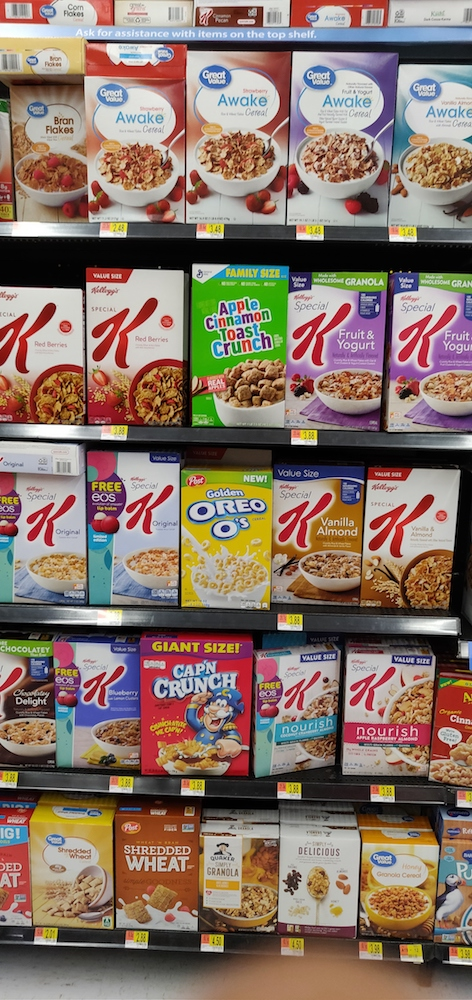Oreo Golden-568301011: (173, 460, 278, 616)
